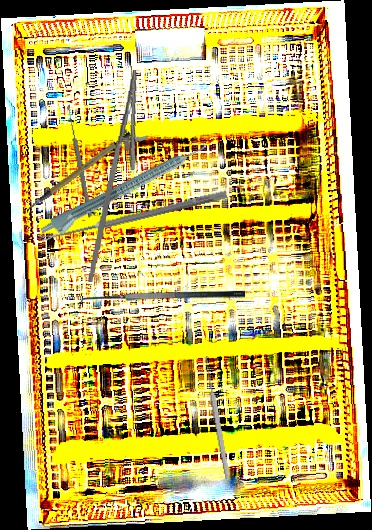Handpiece: (37, 140, 214, 244)
Needle Holder: (86, 67, 155, 286)
Scalpel Handle: (17, 129, 141, 211)
Spatula Surgical: (79, 289, 245, 312)
Surgical Spoon: (40, 189, 228, 244), (202, 355, 232, 480), (65, 103, 94, 219)
